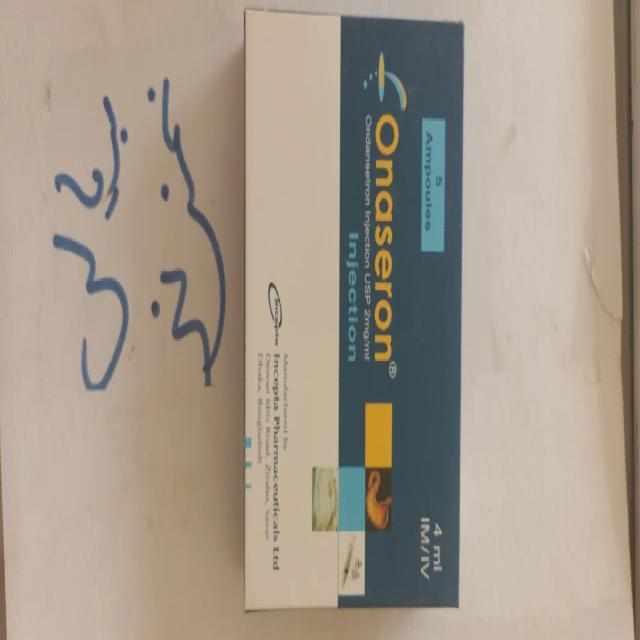drug-name: (374, 113, 404, 380)
